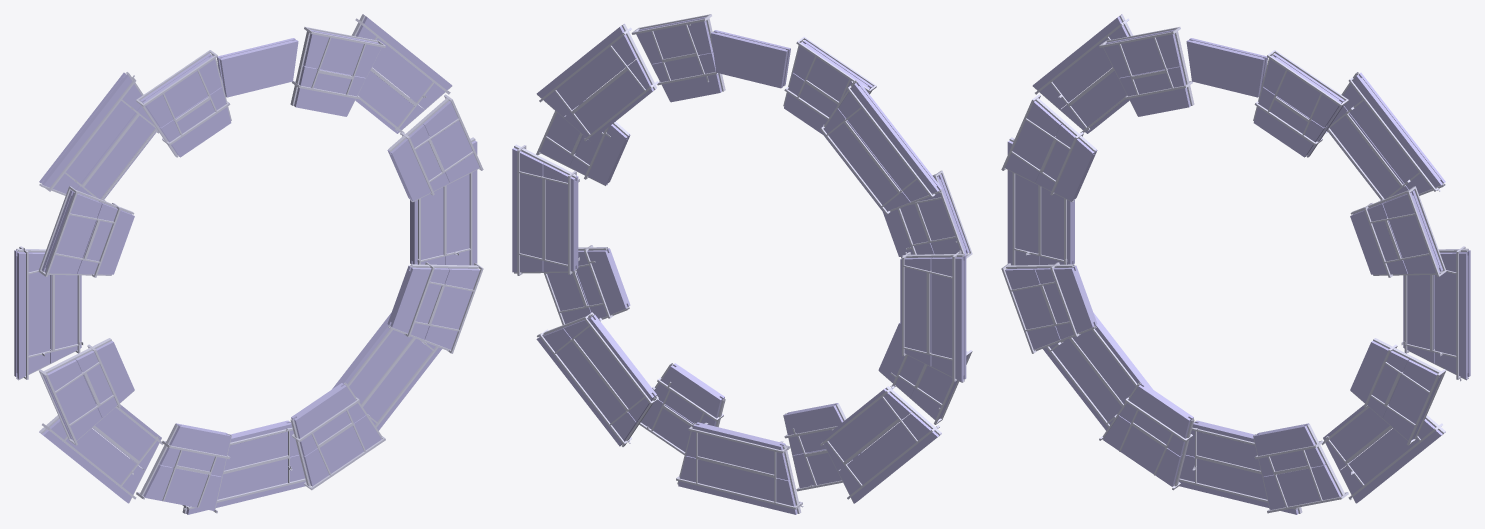
The model's file is Extra-Wheel-SideC-cut4.glb.
3 renders of one model, left to right at view 1: azimuth 30°, elevation 25°; view 2: azimuth 150°, elevation 25°; view 3: azimuth 330°, elevation 25°, orthographic.
Visible parts, largest first — view 1: null; view 2: null; view 3: null.
Boxes of the visible parts, x1,y1,x2,y2 form: null: (14, 14, 483, 514); null: (512, 14, 972, 514); null: (1001, 14, 1470, 514).
Size of the model in its own units: 17.93 by 17.54 by 1.54.
